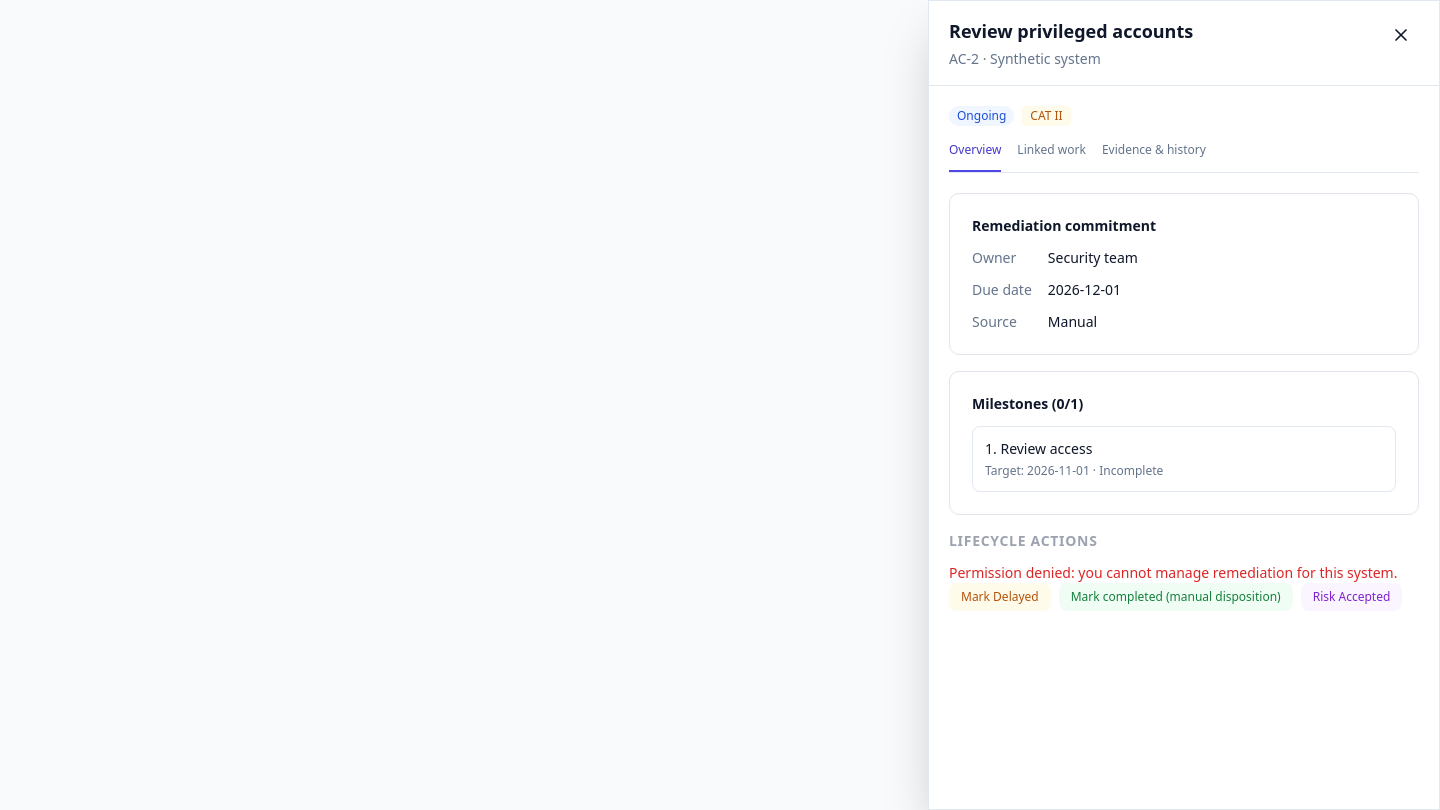
Test: Commitment detail drawer › uses personal date display for deadlines and ticket sync without rewriting history
Expected: the text "2026-12-01" is shown, [1048,280,1121,299]
Expected: the text "Target: 2026-11-01 · Incomplete" is shown, [985,462,1163,479]
Step 1. Click the button "Evidence & history" → [1154, 157], box [1102,142,1206,172]
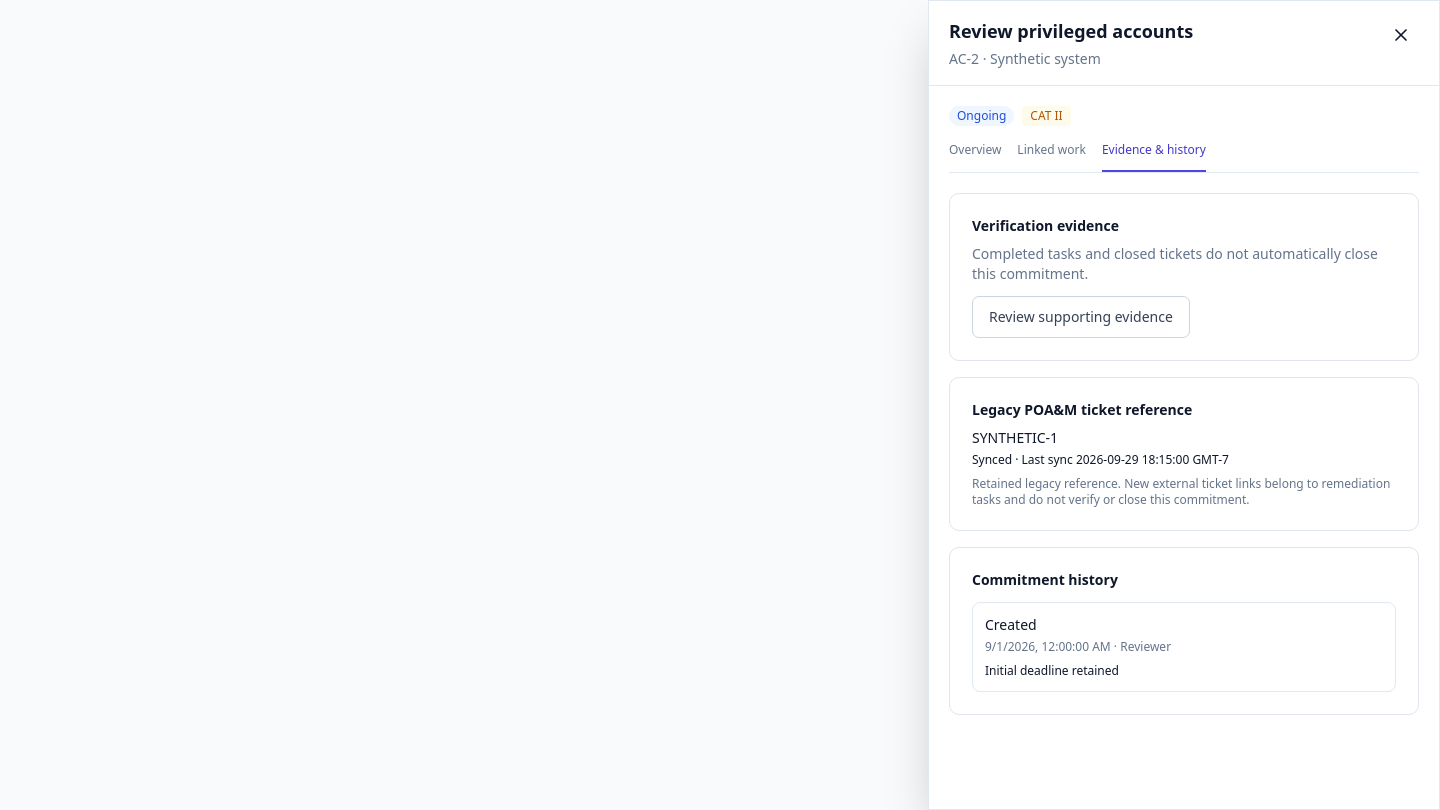
Now the text "Synced · Last sync 2026-09-29 18:15:00 GMT-7" is shown, box [972,451,1229,468]
